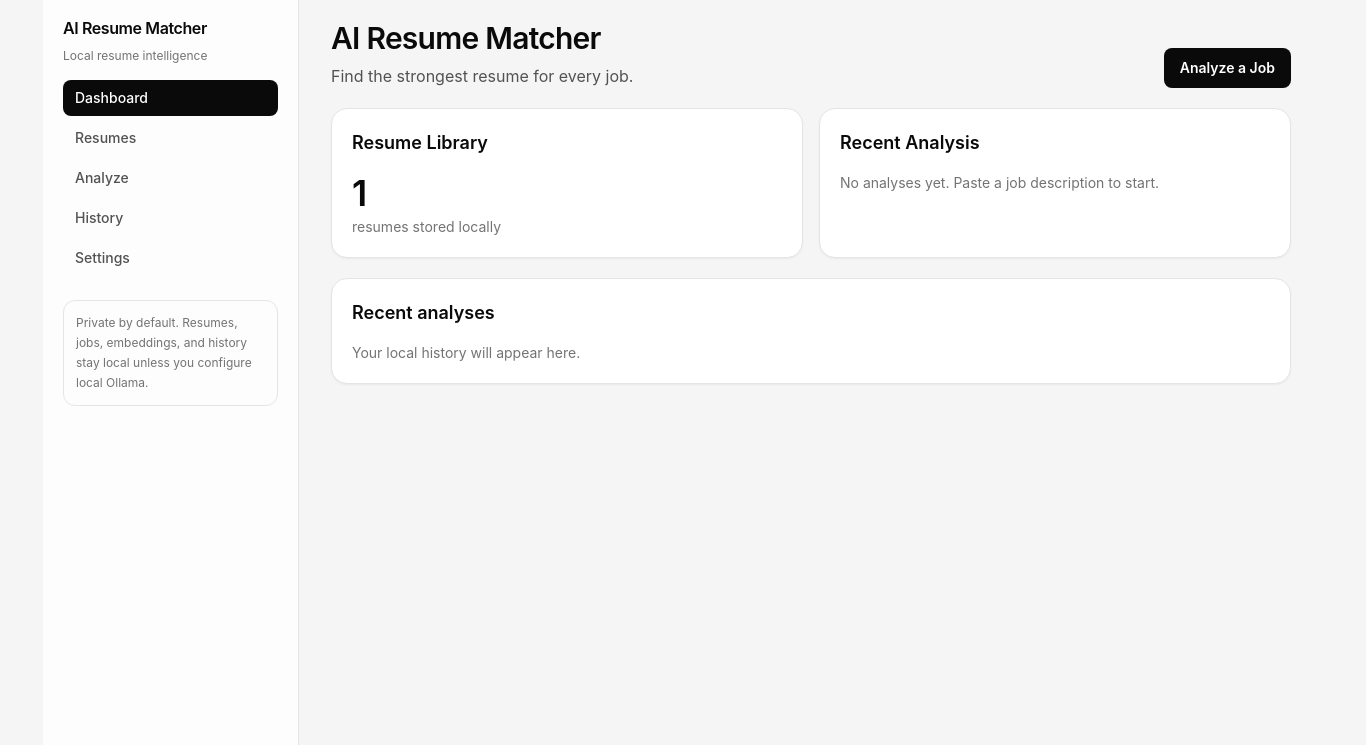
shows local recruiter analysis in the UI
This screenshot has width=1366, height=745.
Click the button "Analyze" at (170, 178), box [63,160,278,196]
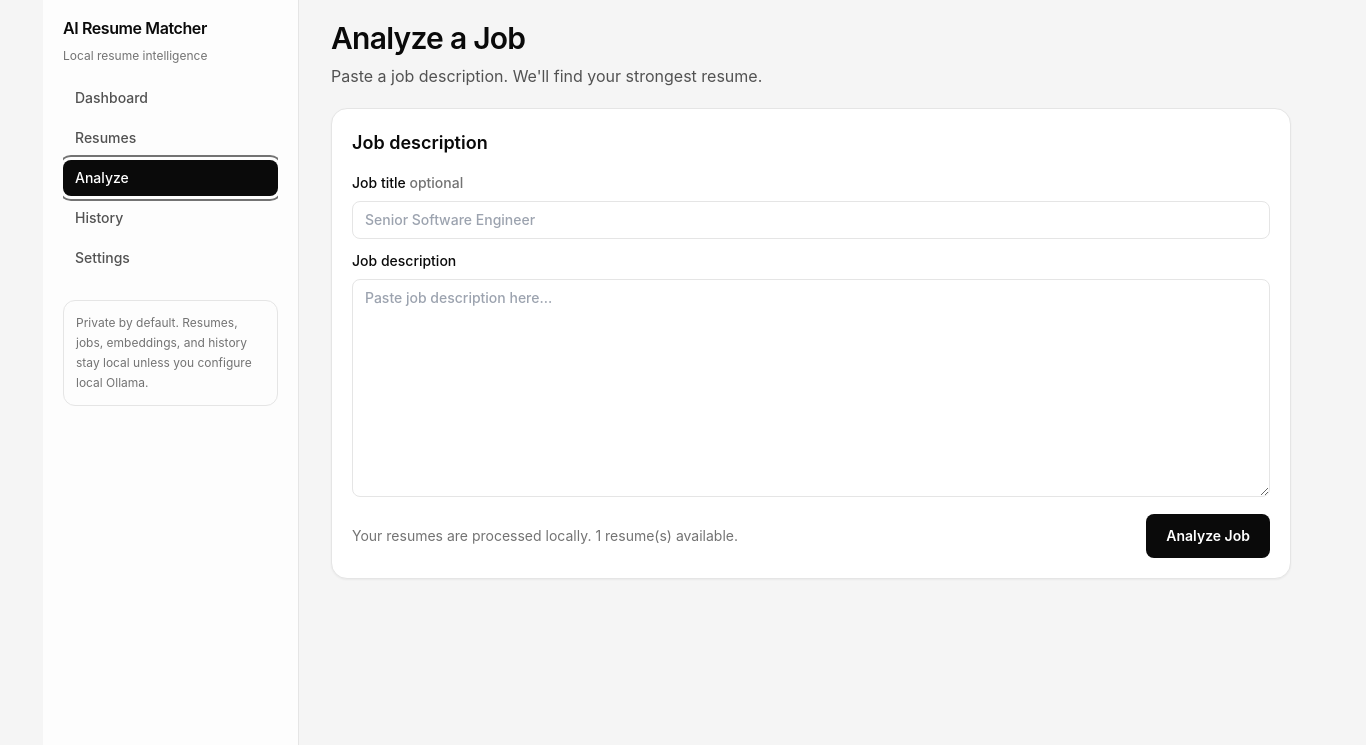
Type "Required: Python. Preferred: React." into the text box with placeholder "Paste job description here..." at (811, 388), box [352,279,1270,497]
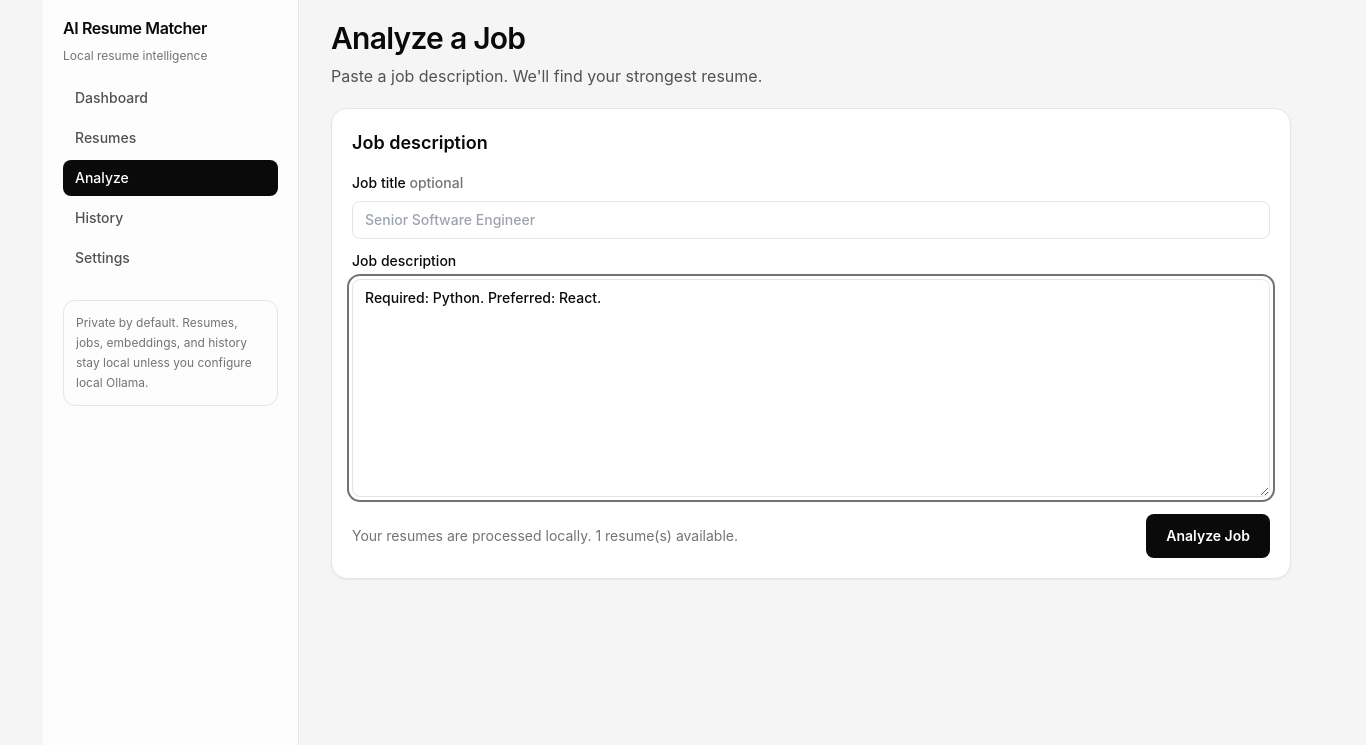
Click the button "Analyze Job" at (1208, 536), box [1146,514,1270,558]
(page scrolled)
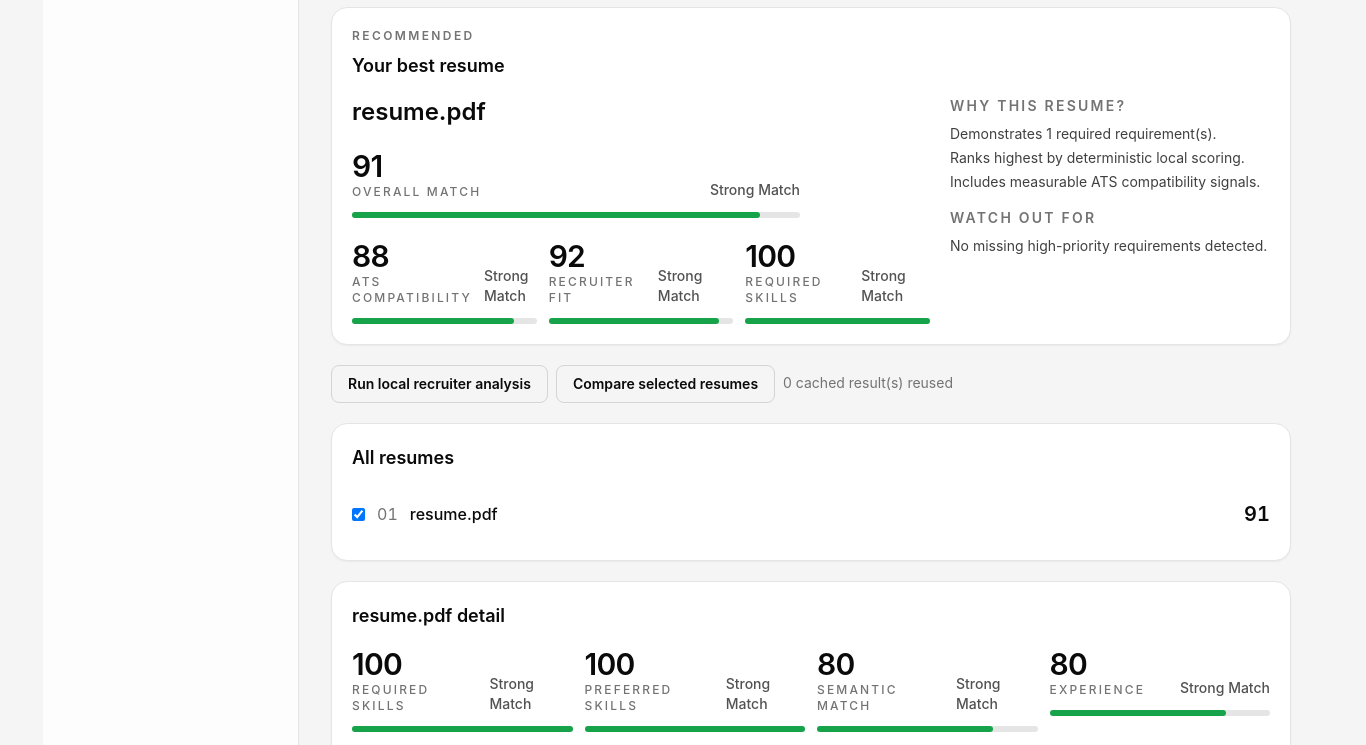
Click the button "Run local recruiter analysis" at (439, 384), box [331,365,548,403]
(page scrolled)
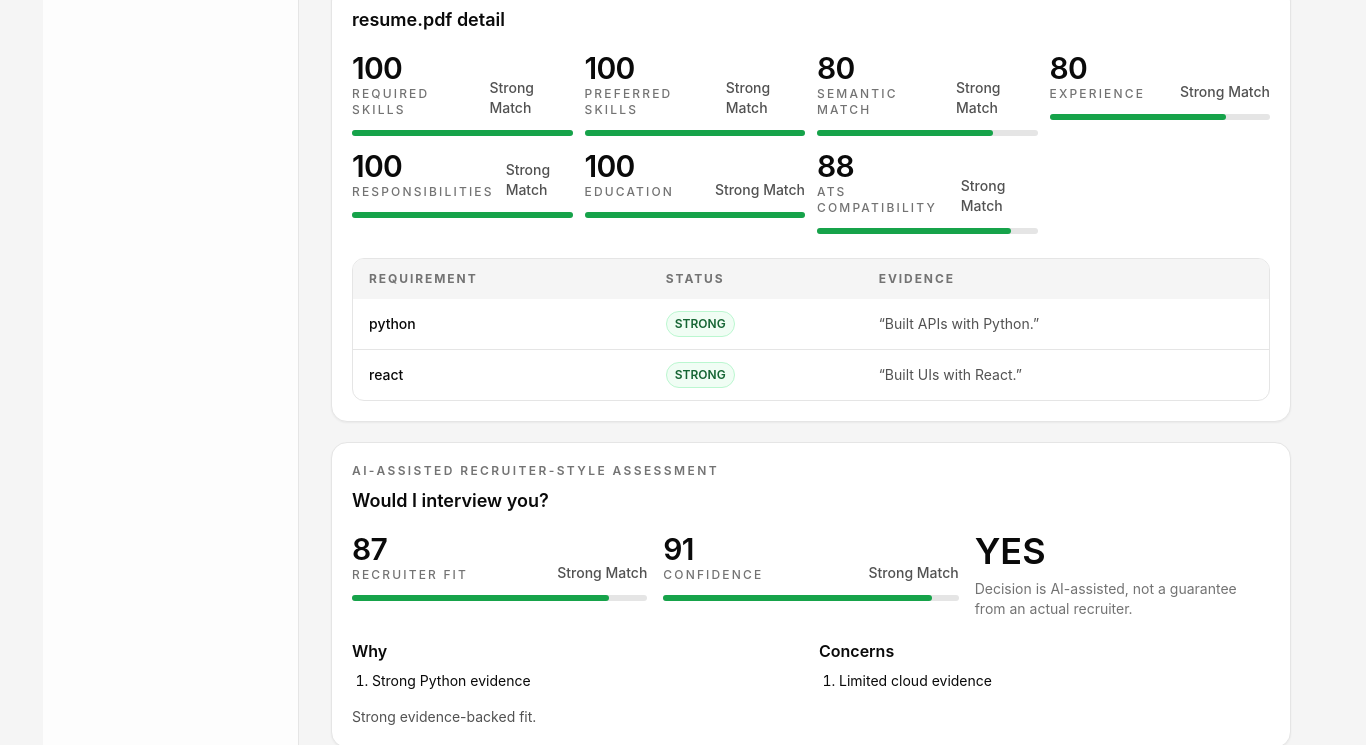
Check: the heading "Would I interview you?" is shown, box [352,490,549,511]
Check: the text "Strong evidence-backed fit." is shown, box [352,708,536,725]
